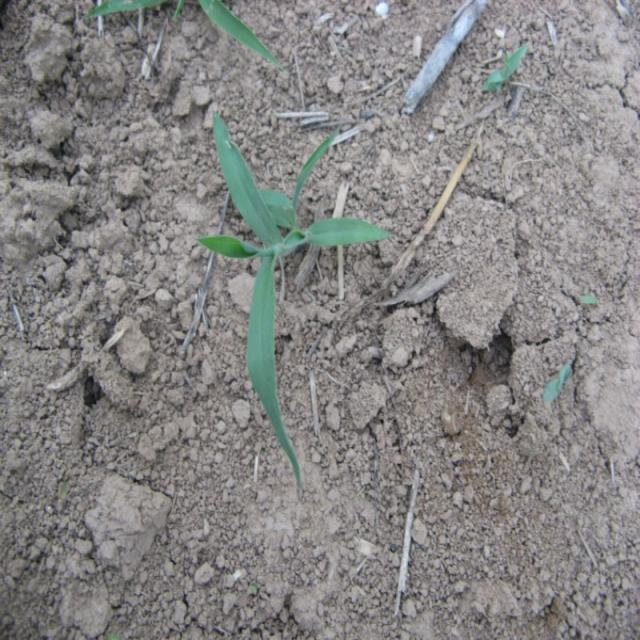bg: (202, 103, 394, 480)
